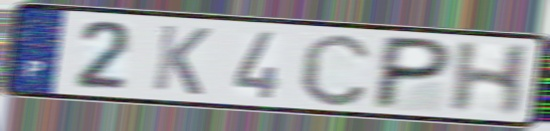2: (70, 18, 134, 93)
4: (230, 30, 282, 100)
C: (295, 30, 374, 109)
H: (445, 40, 536, 118)
K: (148, 22, 215, 98)
P: (366, 33, 457, 111)
